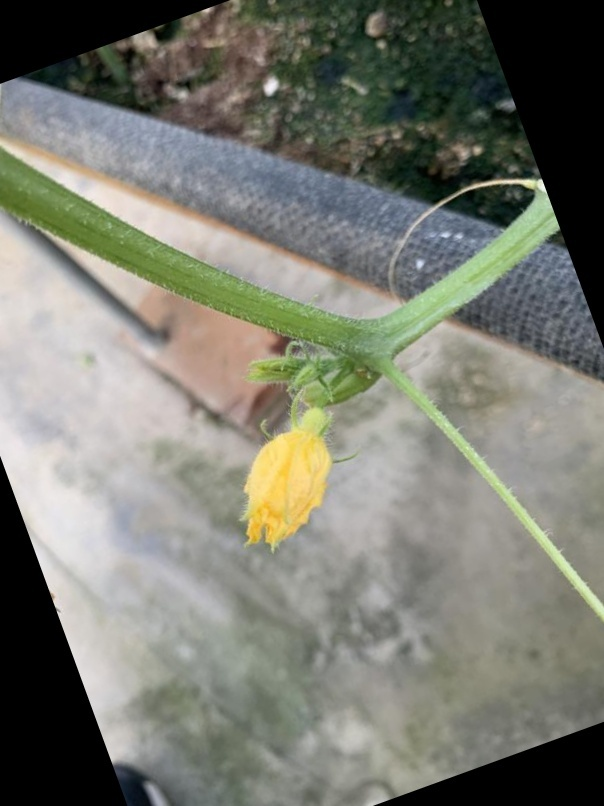bud: (183, 394, 359, 562)
